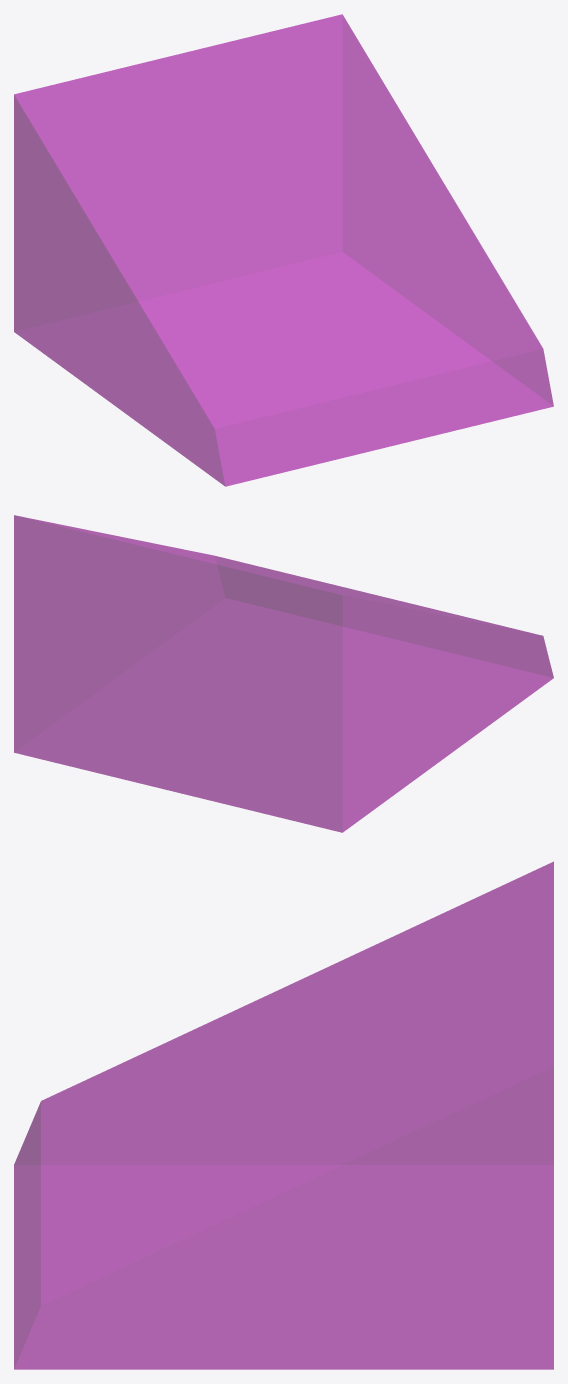
Rendered from SM_Env_Stone_Stairs_01_Collision.fbx.
The picture shows the model from 3 angles, top to bottom: view 1: azimuth 30°, elevation 25°; view 2: azimuth 150°, elevation 25°; view 3: azimuth 270°, elevation 25°; orthographic projection. The views are drawn at different scales.
Parts seen in each view (by area): view 1: SM_Env_Stone_Stairs_01_Collision; view 2: SM_Env_Stone_Stairs_01_Collision; view 3: SM_Env_Stone_Stairs_01_Collision.
Boxes of the visible parts, x1,y1,x2,y2 form: SM_Env_Stone_Stairs_01_Collision: (14,14,553,486); SM_Env_Stone_Stairs_01_Collision: (14,515,553,832); SM_Env_Stone_Stairs_01_Collision: (14,861,553,1369).
Bounding box in the file's own units: 253 × 175 × 281.
